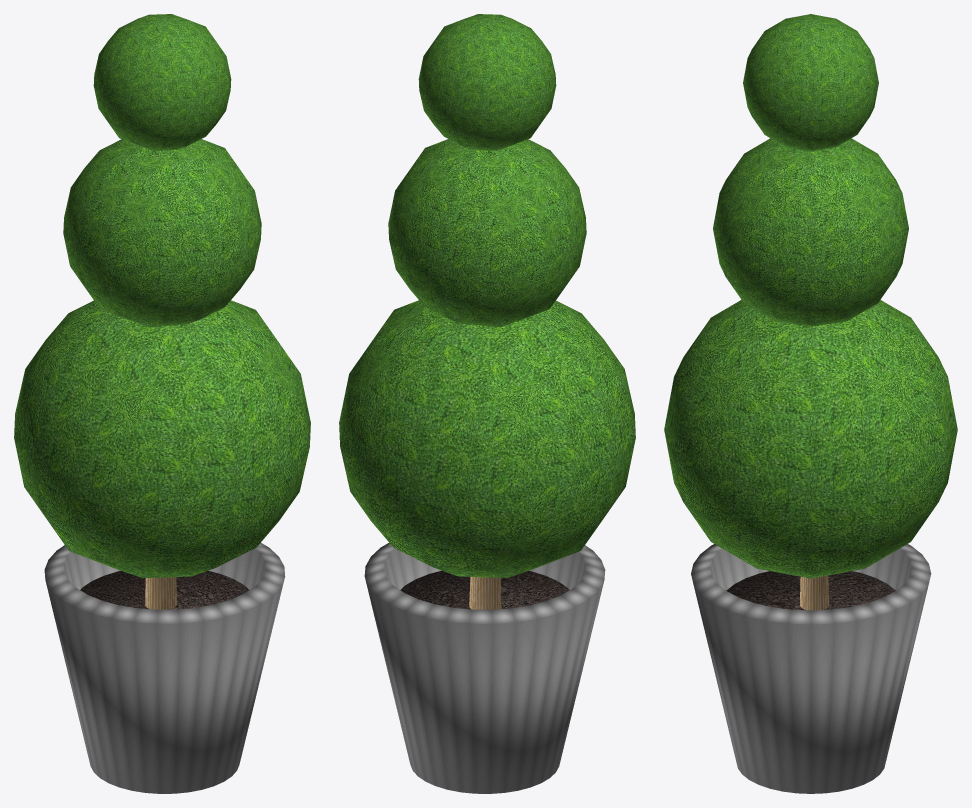
File: plant.obj
3 renders of one model, left to right at view 1: azimuth 30°, elevation 25°; view 2: azimuth 150°, elevation 25°; view 3: azimuth 270°, elevation 25°, orthographic.
Visible parts, largest first — view 1: Cube_Cube.013, Cylinder.001, Cube.001_Cube.014, Cube.002_Cube.015, Cylinder, Cone; view 2: Cube_Cube.013, Cylinder.001, Cube.001_Cube.014, Cube.002_Cube.015, Cylinder, Cone; view 3: Cube_Cube.013, Cylinder.001, Cube.001_Cube.014, Cube.002_Cube.015, Cylinder, Cone.
Boxes of the visible parts, left/top/right/bottom form: Cube_Cube.013: left=14, top=300, right=310, bottom=577; Cylinder.001: left=44, top=543, right=285, bottom=793; Cube.001_Cube.014: left=63, top=139, right=261, bottom=327; Cube.002_Cube.015: left=93, top=14, right=231, bottom=150; Cylinder: left=80, top=570, right=249, bottom=609; Cone: left=145, top=577, right=176, bottom=609; Cube_Cube.013: left=339, top=300, right=635, bottom=577; Cylinder.001: left=364, top=543, right=605, bottom=793; Cube.001_Cube.014: left=388, top=139, right=586, bottom=326; Cube.002_Cube.015: left=418, top=14, right=556, bottom=150; Cylinder: left=400, top=570, right=569, bottom=609; Cone: left=469, top=577, right=501, bottom=609; Cube_Cube.013: left=664, top=300, right=957, bottom=578; Cylinder.001: left=691, top=544, right=931, bottom=793; Cube.001_Cube.014: left=713, top=138, right=908, bottom=326; Cube.002_Cube.015: left=743, top=14, right=878, bottom=151; Cylinder: left=726, top=571, right=895, bottom=610; Cone: left=800, top=575, right=828, bottom=610.
Size of the model in its own units: 0.816 by 2.27 by 0.816.
